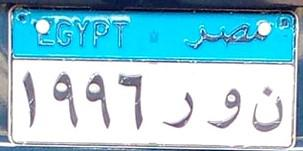1: (18, 63, 41, 133)
6: (115, 69, 147, 138)
9: (45, 66, 78, 134), (84, 62, 108, 129)
ر: (162, 87, 197, 131)
ن: (240, 79, 287, 138)
و: (203, 76, 246, 134)
